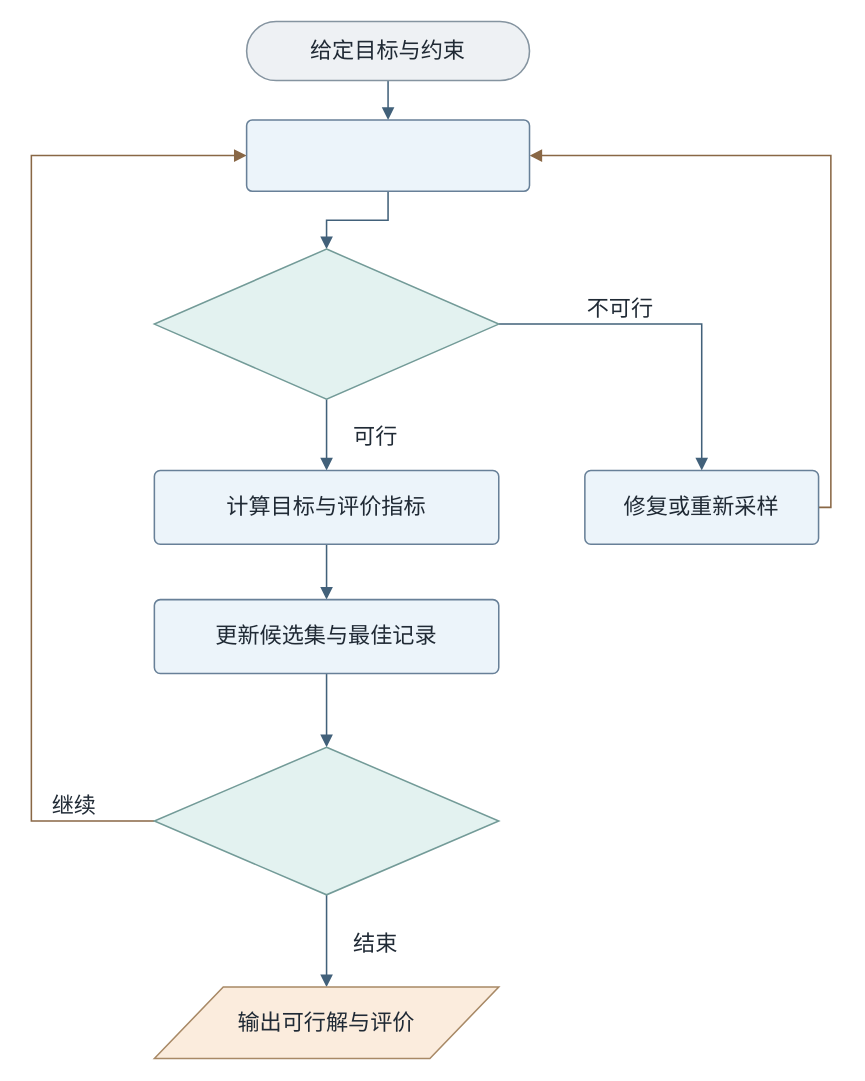
This 865x1081 diagram has some shape labels left out. The box of each missing label's shape, as (x1, y1, x2, y2) in pixels:
可行性检查 g(x) ≤ 0: (153, 248, 499, 399)
生成候选解 x: (245, 119, 530, 192)
终止判定 满足终止准则？: (153, 746, 499, 895)
